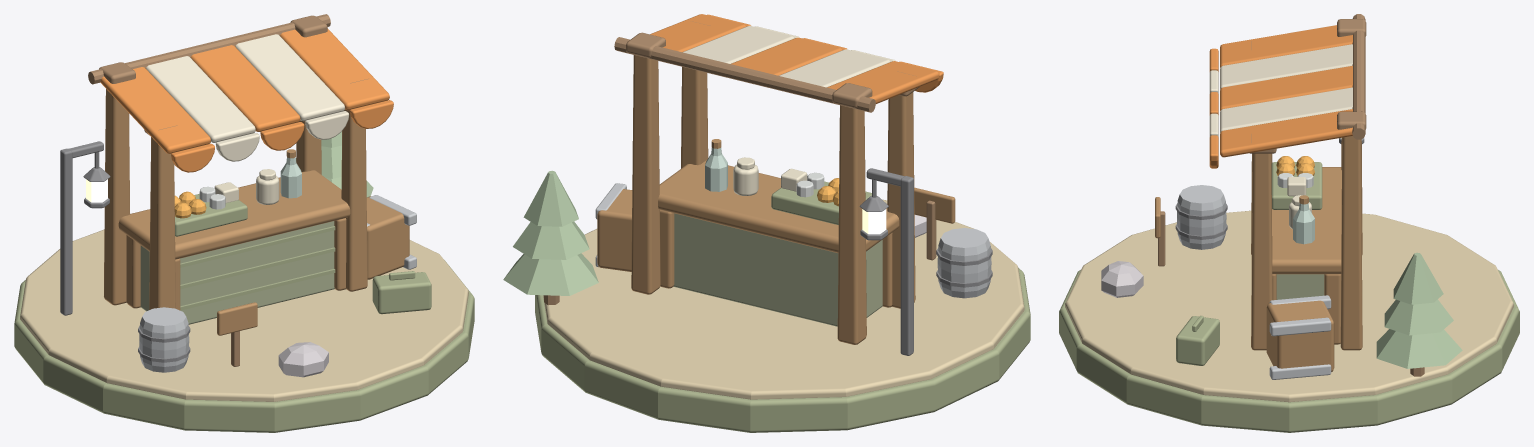
The model's file is PR_RouteMerchant.glb.
3 views of the same model, side by side, from view 1: azimuth 30°, elevation 25°; view 2: azimuth 150°, elevation 25°; view 3: azimuth 270°, elevation 25° (orthographic). The views are drawn at different scales.
Visible parts, largest first — view 1: Tile_Top, Tile_Plinth, Counter_Body, Counter_Top, Post.001, Awning_Stripe3, Awning_Stripe1, Awning_Stripe2, Awning_Stripe0, Post, Awning_Stripe4, Post.002 (+25 smaller); view 2: Tile_Top, Tile_Plinth, Counter_Body, Counter_Top, Post.003, Post.001, Post, Awning_Bar, Prop_Barrel, Prop_PineTier0, Post.002, Lantern_Pole (+18 smaller); view 3: Tile_Top, Tile_Plinth, Counter_Top, Post.003, Post.002, Prop_Crate, Awning_Stripe4, Awning_Stripe3, Awning_Stripe2, Awning_Stripe1, Awning_Stripe0, Prop_PineTier0 (+14 smaller).
Boxes of the visible parts, left/top/right/bottom form: Tile_Top: left=20, top=229, right=468, bottom=401; Tile_Plinth: left=14, top=260, right=474, bottom=432; Counter_Body: left=140, top=221, right=334, bottom=324; Counter_Top: left=118, top=170, right=350, bottom=259; Post.001: left=104, top=89, right=130, bottom=305; Awning_Stripe3: left=235, top=34, right=344, bottom=121; Awning_Stripe1: left=146, top=56, right=255, bottom=142; Awning_Stripe2: left=190, top=45, right=300, bottom=131; Awning_Stripe0: left=100, top=67, right=210, bottom=153; Post: left=149, top=137, right=175, bottom=309; Awning_Stripe4: left=280, top=28, right=389, bottom=110; Post.002: left=341, top=109, right=367, bottom=291; Tile_Top: left=543, top=199, right=1024, bottom=399; Tile_Plinth: left=535, top=268, right=1030, bottom=432; Counter_Body: left=673, top=213, right=882, bottom=326; Counter_Top: left=658, top=160, right=899, bottom=252; Post.003: left=631, top=55, right=660, bottom=294; Post.001: left=837, top=105, right=866, bottom=344; Post: left=887, top=92, right=915, bottom=308; Awning_Bar: left=614, top=37, right=875, bottom=112; Prop_Barrel: left=937, top=228, right=991, bottom=298; Prop_PineTier0: left=503, top=253, right=598, bottom=295; Post.002: left=681, top=67, right=708, bottom=168; Lantern_Pole: left=900, top=176, right=913, bottom=355; Tile_Top: left=1065, top=210, right=1513, bottom=402; Tile_Plinth: left=1059, top=270, right=1519, bottom=432; Counter_Top: left=1272, top=167, right=1341, bottom=274; Post.003: left=1340, top=136, right=1362, bottom=350; Post.002: left=1251, top=153, right=1272, bottom=350; Prop_Crate: left=1266, top=300, right=1334, bottom=371; Awning_Stripe4: left=1220, top=109, right=1352, bottom=157; Awning_Stripe3: left=1220, top=87, right=1352, bottom=132; Awning_Stripe2: left=1220, top=65, right=1352, bottom=110; Awning_Stripe1: left=1220, top=44, right=1352, bottom=89; Awning_Stripe0: left=1220, top=25, right=1352, bottom=67; Prop_PineTier0: left=1376, top=329, right=1462, bottom=368.
Size of the model in its own units: 6.3 by 4.03 by 6.3.
